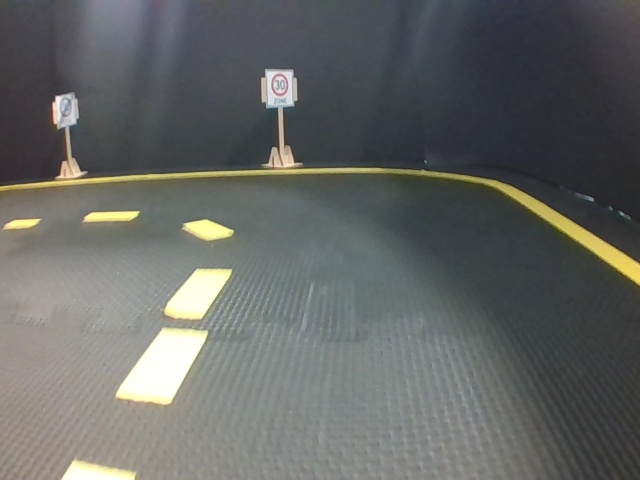30: (264, 70, 294, 109)
no30: (55, 93, 75, 129)
